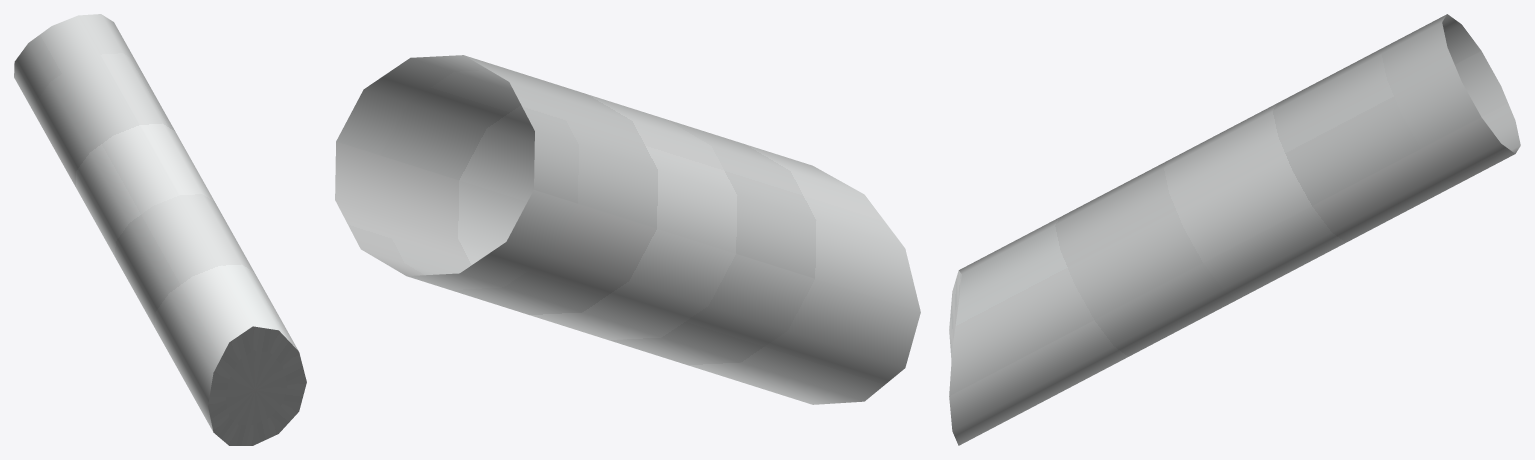
Rendered from luminairearm_truss12ftstraight_c1_thin.obj.
The picture shows the model from 3 angles, left to right: view 1: azimuth 30°, elevation 25°; view 2: azimuth 150°, elevation 25°; view 3: azimuth 270°, elevation 25°; orthographic projection. The views are drawn at different scales.
Parts seen in each view (by area): view 1: luminairearm_truss12ftstraight_c1_thin; view 2: luminairearm_truss12ftstraight_c1_thin; view 3: luminairearm_truss12ftstraight_c1_thin.
Boxes of the visible parts, <box> form: luminairearm_truss12ftstraight_c1_thin: <box>14,14,306,445</box>; luminairearm_truss12ftstraight_c1_thin: <box>335,55,920,404</box>; luminairearm_truss12ftstraight_c1_thin: <box>949,14,1520,445</box>.
Size of the model in its own units: 0.1562 by 0.4569 by 0.5684.
